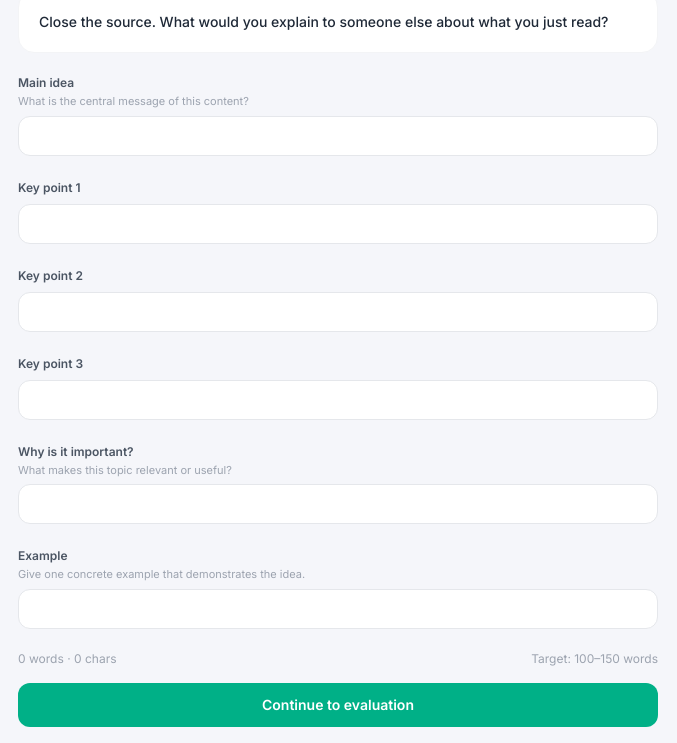
Test: SummaryStage live word count › updates the word count as the user types
Expected: the text "0 words · 0 chars" is shown, [18,650,116,666]
Type "the main idea here" into the text box labelled "Main idea What is the central message of this content?". click: {"x": 338, "y": 136}
box: [18,116,658,156]
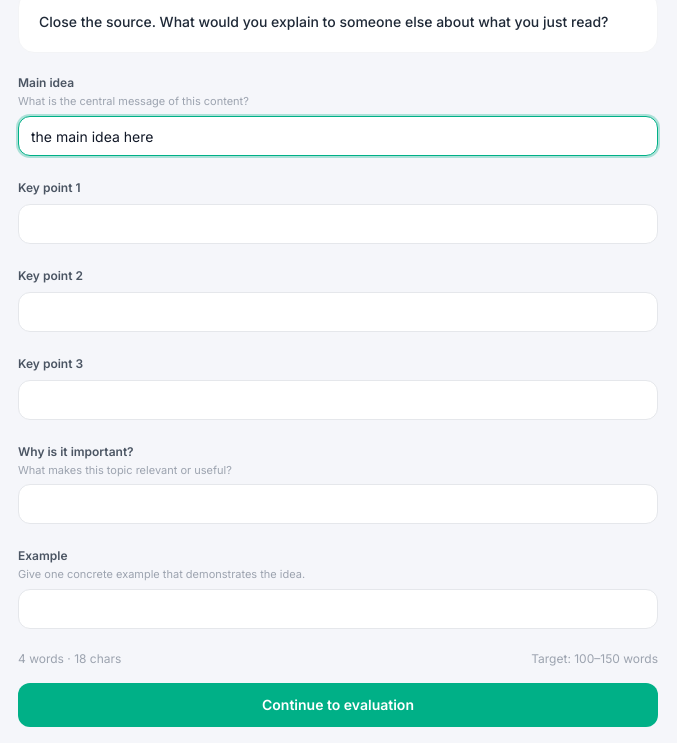
Result: the text "4 words · 18 chars" is shown at [18,650,121,666]
